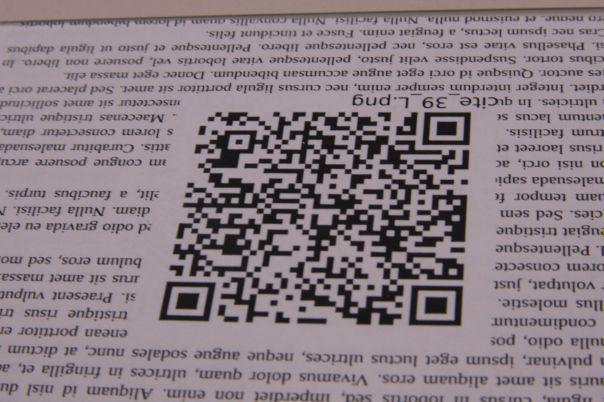Finder pattern: (406, 283, 469, 329), (157, 280, 220, 325), (420, 109, 477, 148)
